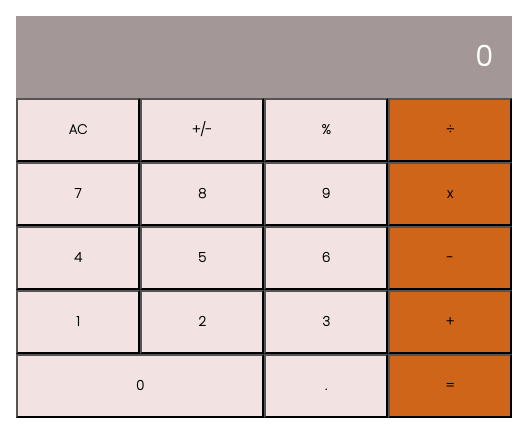
Test: User interaction › simulate operation
Click the button "+". click: (450, 322)
box: [388, 290, 512, 354]
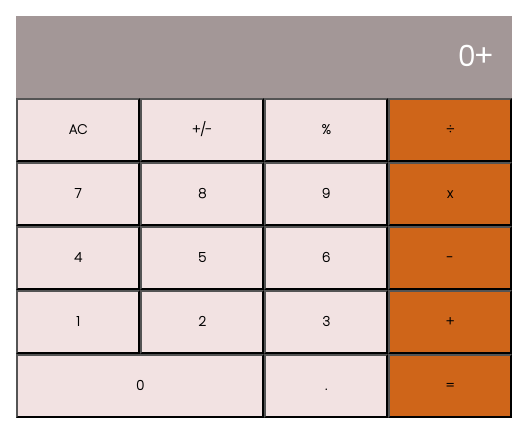
expect the text "0+" is shown: met, box [16, 16, 512, 98]
